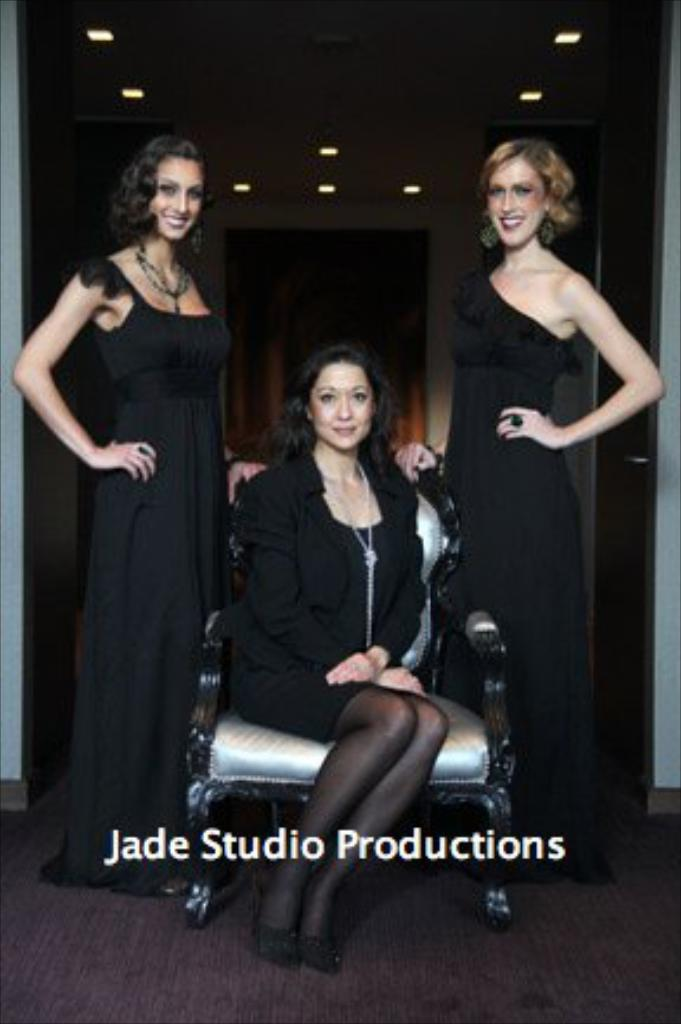Person: (391, 134, 671, 896), (13, 132, 268, 898), (210, 341, 452, 967)
